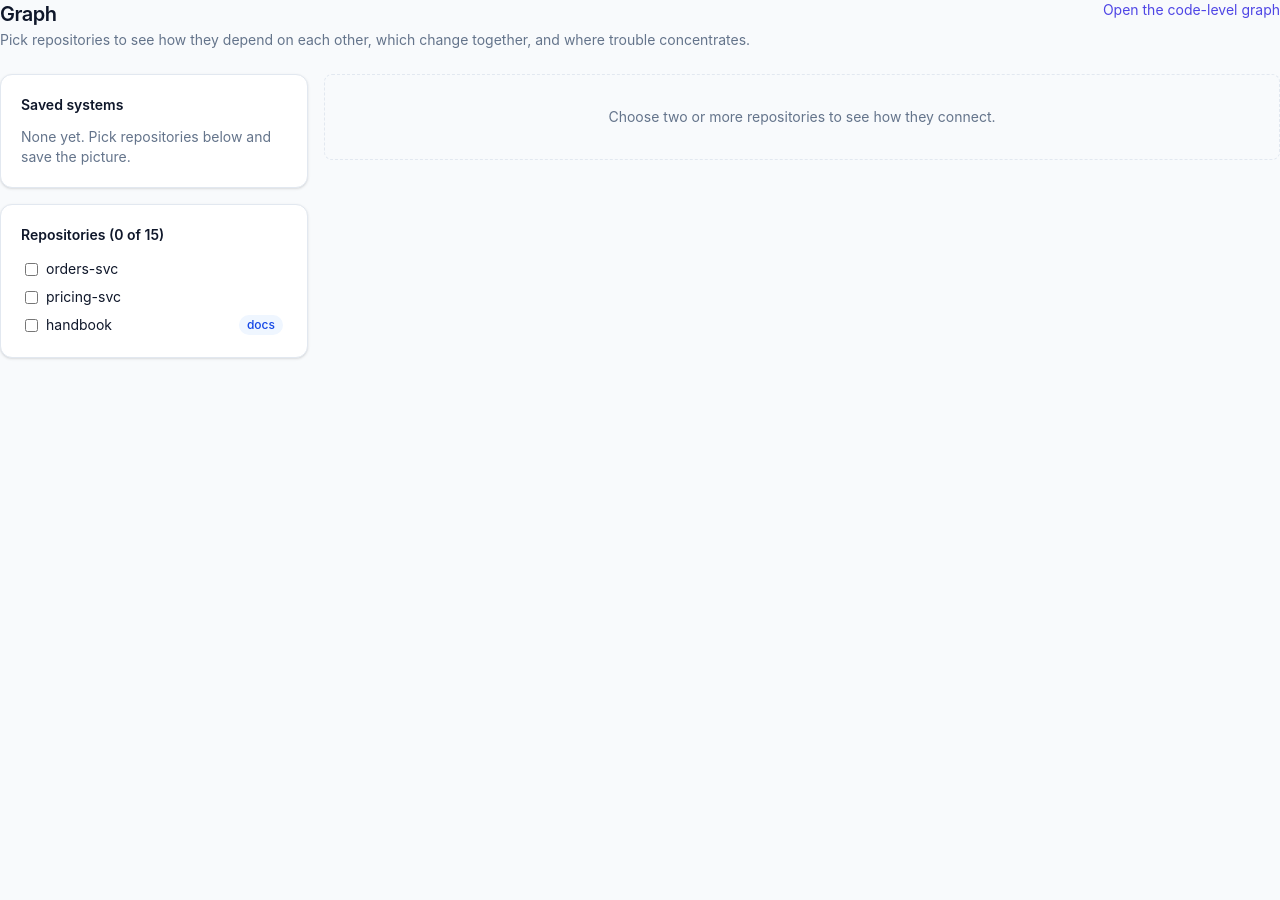
it: Graph: systems › shows what other repositories use from one repository, and its unused exports
Step 1. Click the checkbox labelled "orders-svc" → (32, 269), box [25, 262, 38, 276]
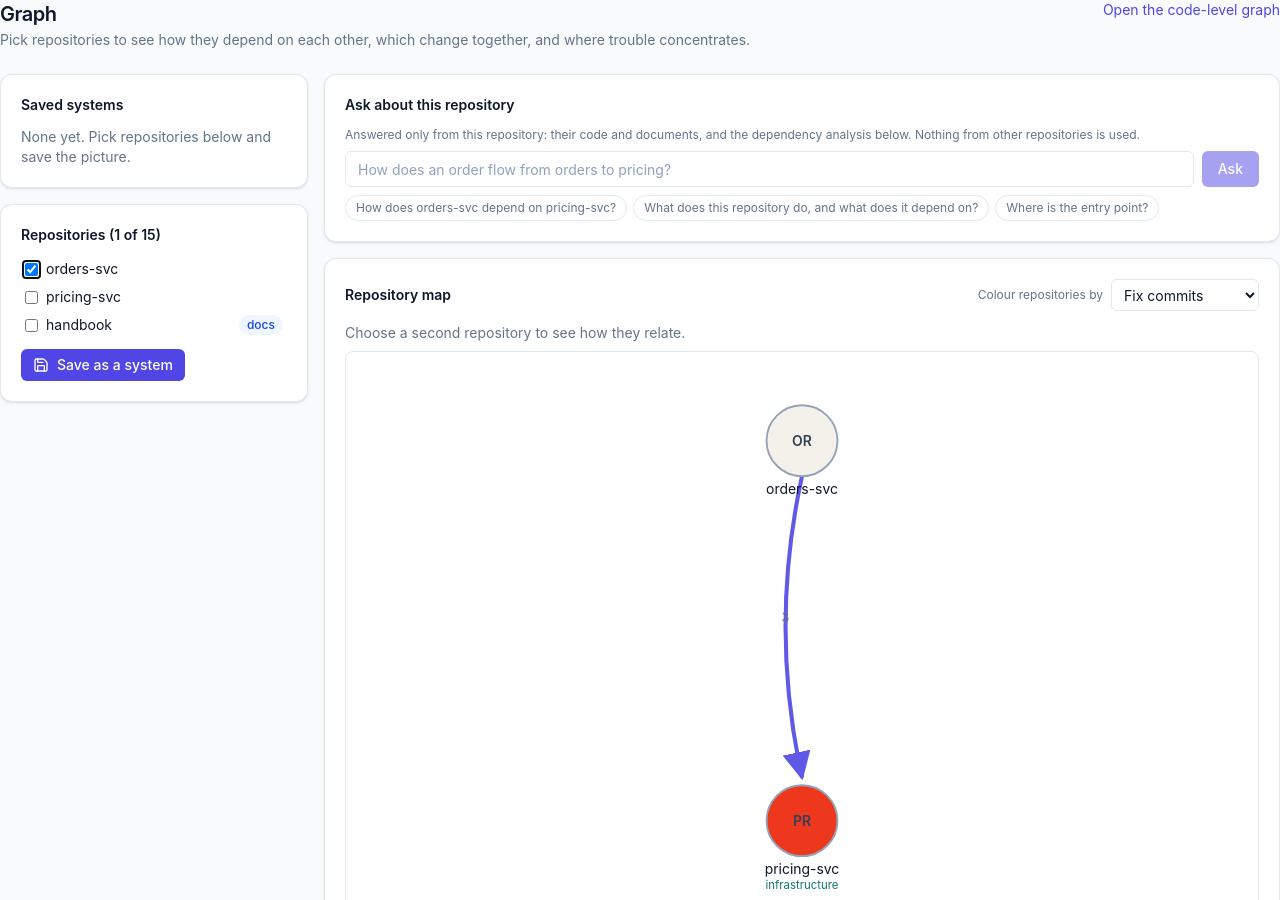
Step 2. Click the checkbox labelled "pricing-svc" → (32, 297), box [25, 290, 38, 304]
(page scrolled)
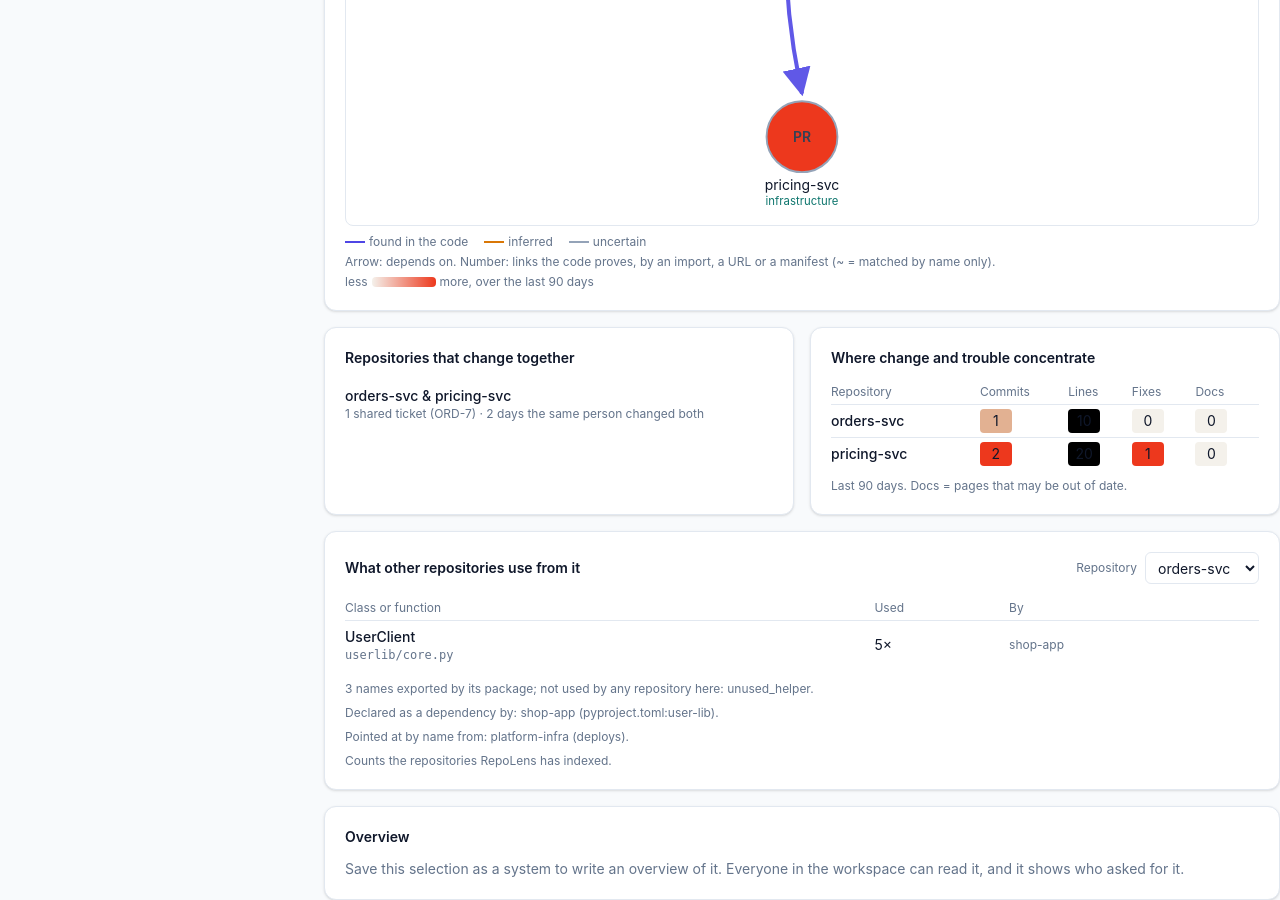
expect the text "UserClient" is shown: met, box [345, 628, 415, 645]
expect the element named "Public surface" shows "5×": met, box [324, 531, 1279, 790]
expect the element named "Public surface" shows "shop-app": met, box [1009, 637, 1064, 652]
